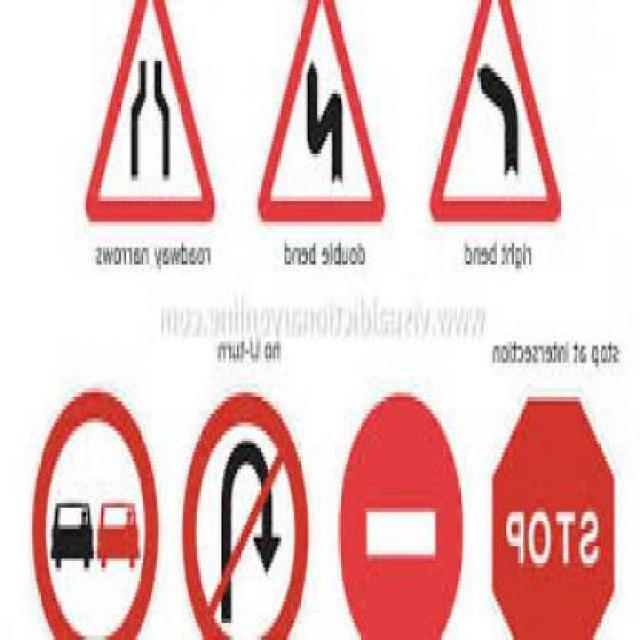warn_double_curve: (256, 5, 384, 227)
warn_left_curve: (427, 0, 569, 227)
